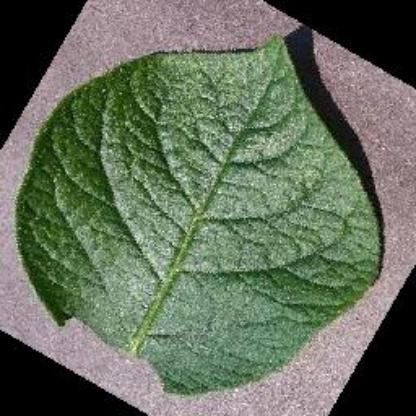Healthy-plant: (17, 26, 396, 395)
